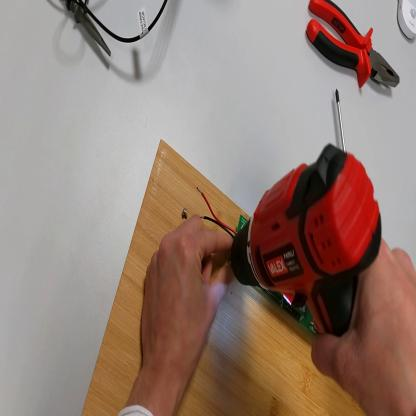electric screwdriver: (231, 134, 395, 340)
hand: (311, 229, 416, 415), (139, 216, 236, 382)
high voltage board: (197, 187, 319, 336)
oscilloscope probe tip: (55, 1, 112, 60)
pliers: (305, 3, 403, 98)
screwdriver-: (336, 88, 347, 156)
working area: (82, 141, 368, 416)
